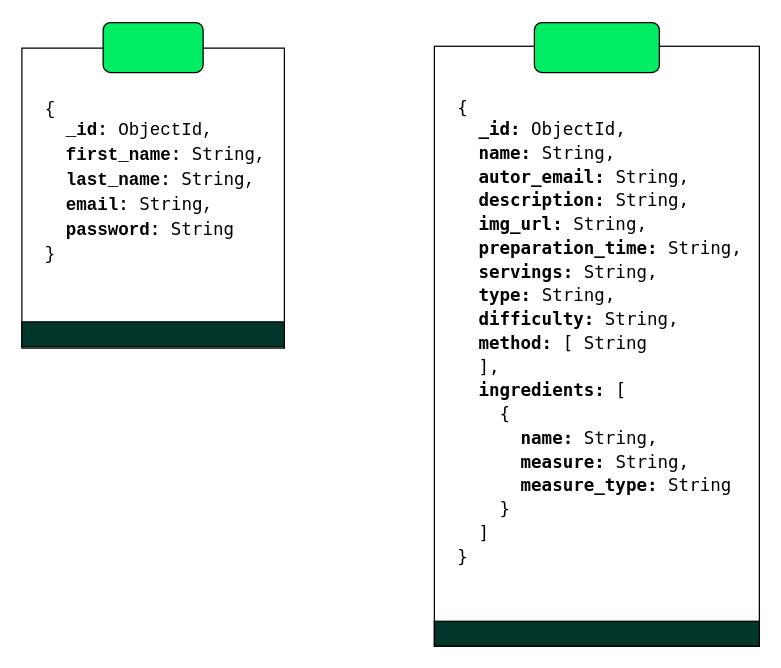
Image size: 781x668. Some labels were removed from this diagram. Here are the shapes that lost their labels. From the top down, the centre of each, then its label:
At (x=152, y=46): "chef".
At (x=596, y=46): "recipe".
